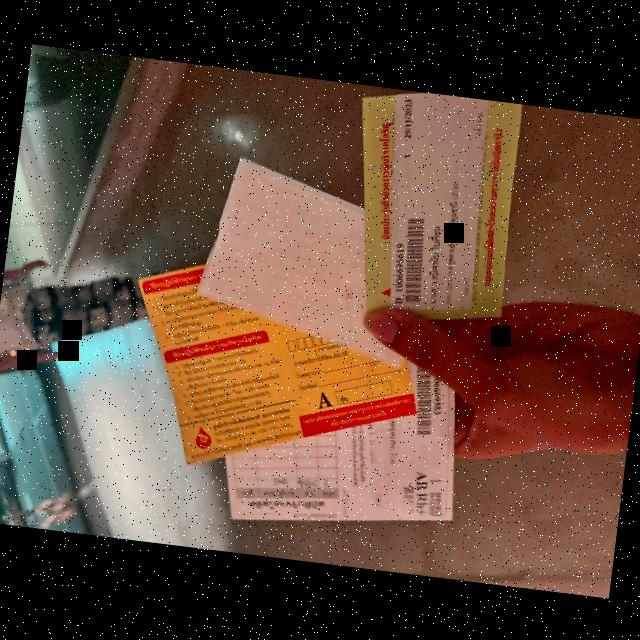scrap_paper: (116, 244, 430, 485), (212, 328, 484, 555), (186, 150, 441, 369), (340, 85, 546, 350)
